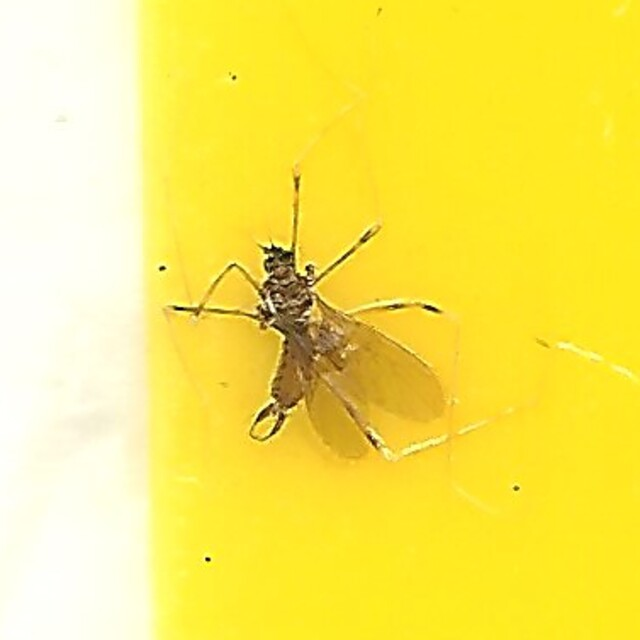Nematocera: (170, 172, 470, 468)
